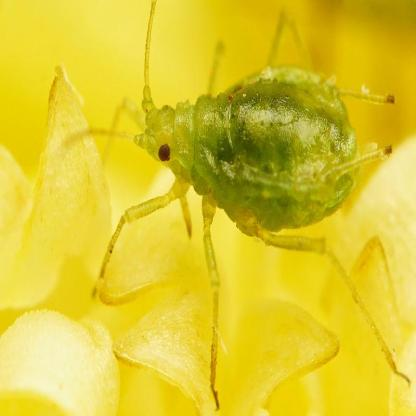aphid: (54, 1, 416, 379)
